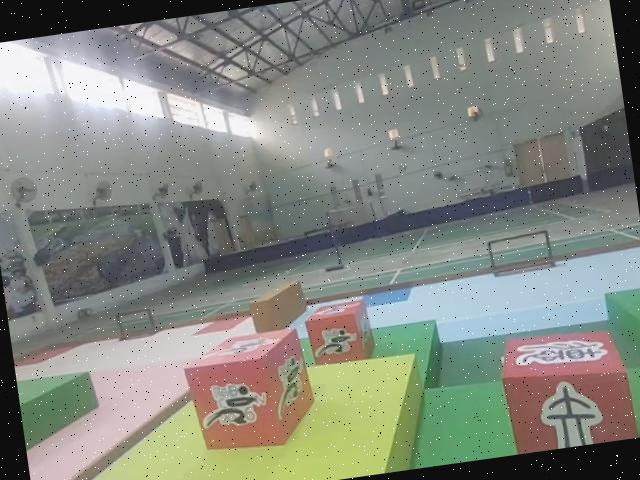R1: (181, 327, 320, 459), (301, 296, 380, 368)
R2 Fake: (497, 320, 640, 456)
